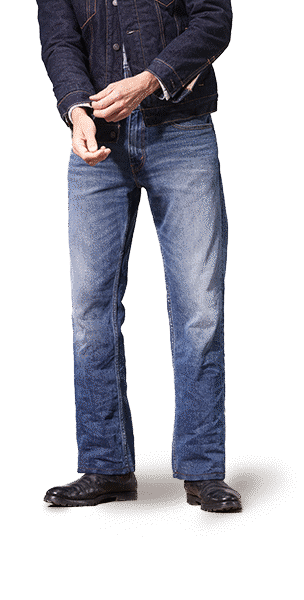jeans: (68, 105, 226, 478)
